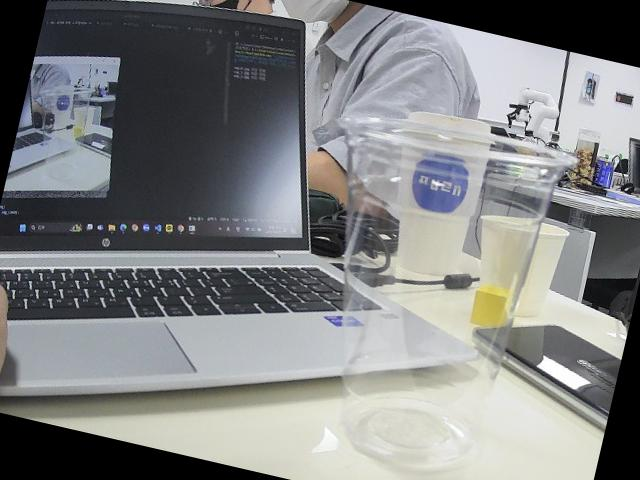Plastik: (343, 116, 574, 468)
